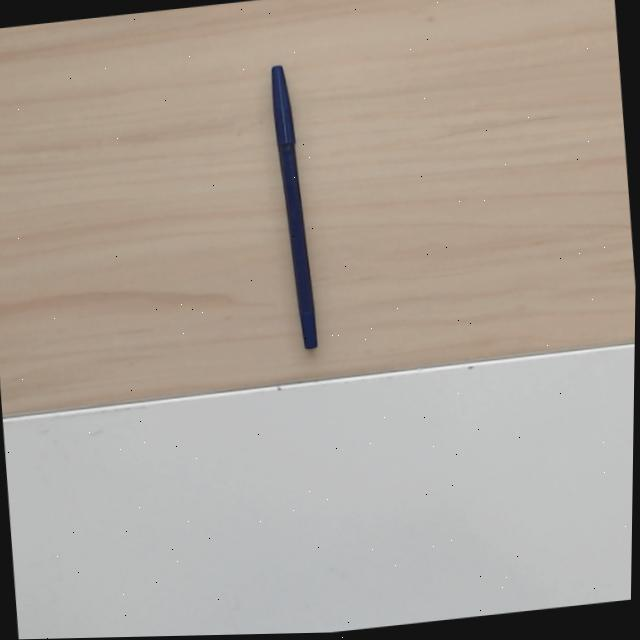Pulpen-Biru: (267, 64, 317, 349)
